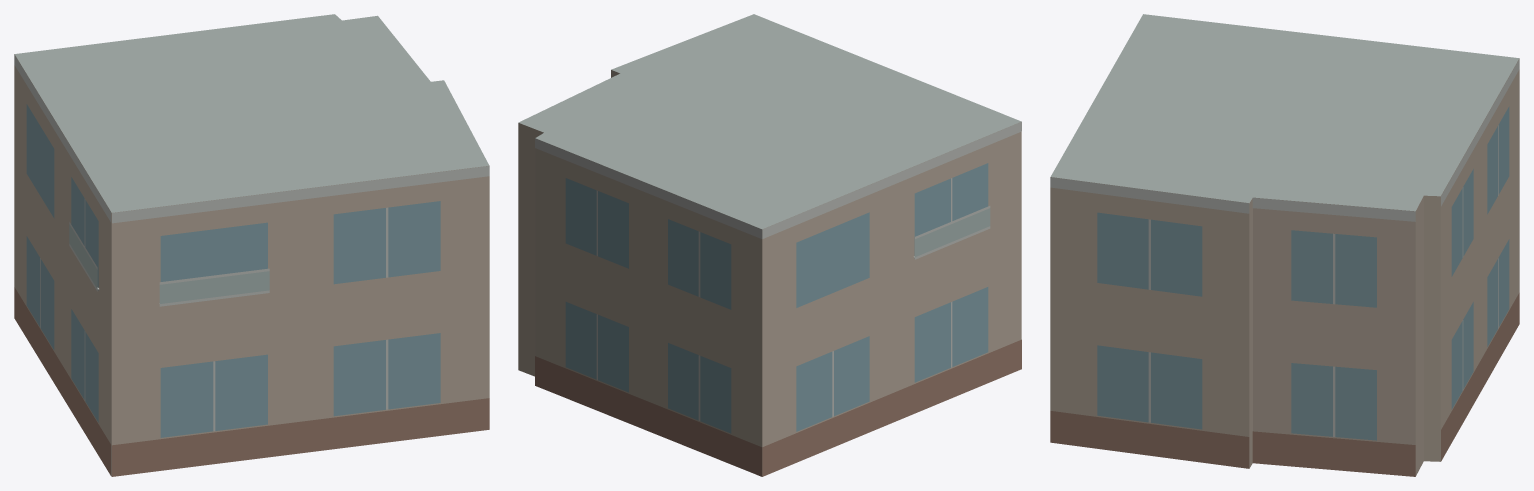
The model's file is survey-upis-32668405.glb.
3 views of the same model, side by side, from view 1: azimuth 30°, elevation 25°; view 2: azimuth 150°, elevation 25°; view 3: azimuth 270°, elevation 25° (orthographic). The views are drawn at different scales.
Parts seen in each view (by area): view 1: survey-upis-32668405.tmp; view 2: survey-upis-32668405.tmp; view 3: survey-upis-32668405.tmp.
Part boxes in pixels (x1,y1,x2,y2): survey-upis-32668405.tmp: [14, 14, 489, 476]; survey-upis-32668405.tmp: [518, 14, 1021, 476]; survey-upis-32668405.tmp: [1050, 14, 1519, 476].
Size of the model in its own units: 9.73 by 6.1 by 9.78.
